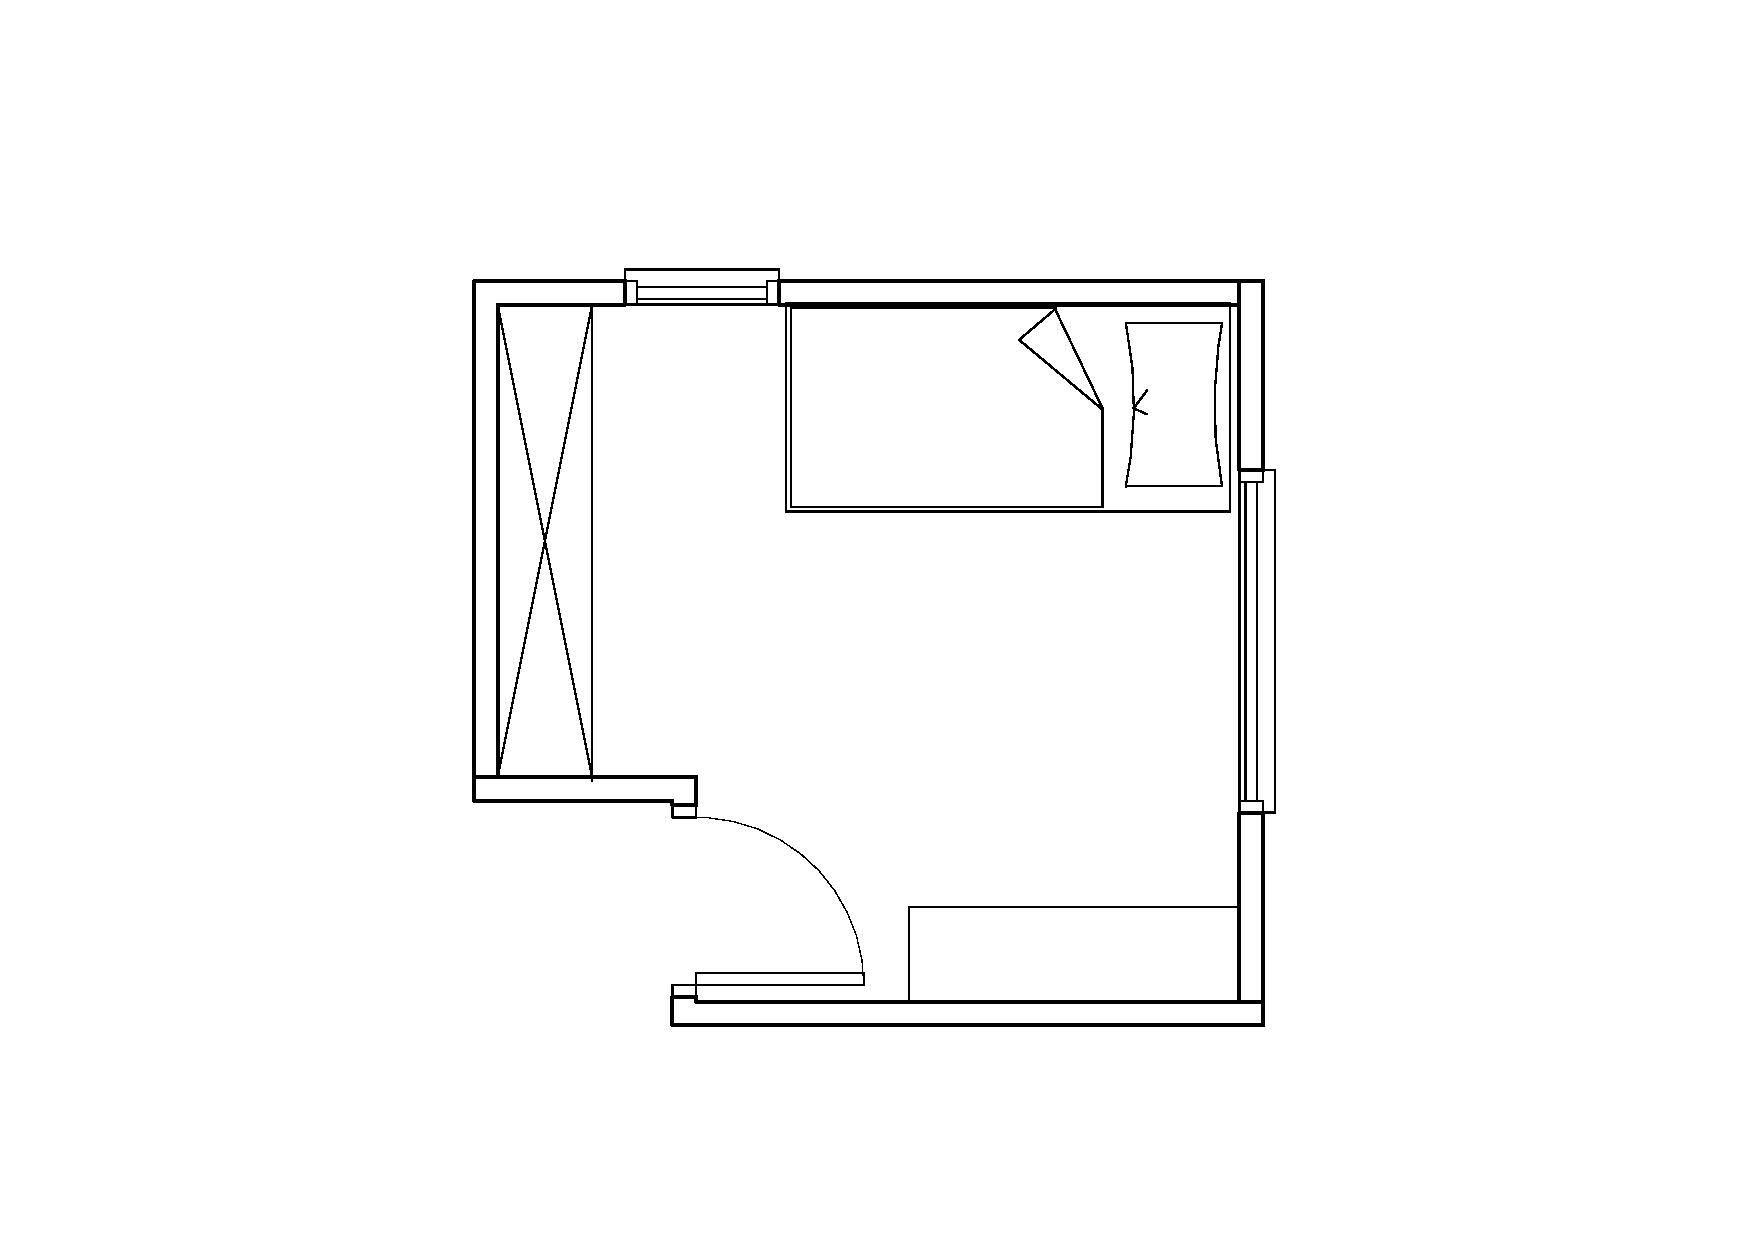door: (710, 813, 878, 990)
window: (1239, 480, 1256, 811), (625, 286, 778, 306)
